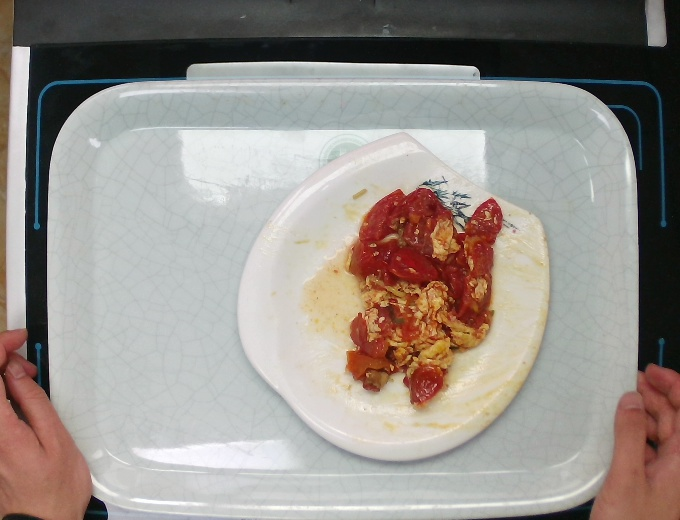JYsf-Mian_Pan: (236, 132, 552, 463)
